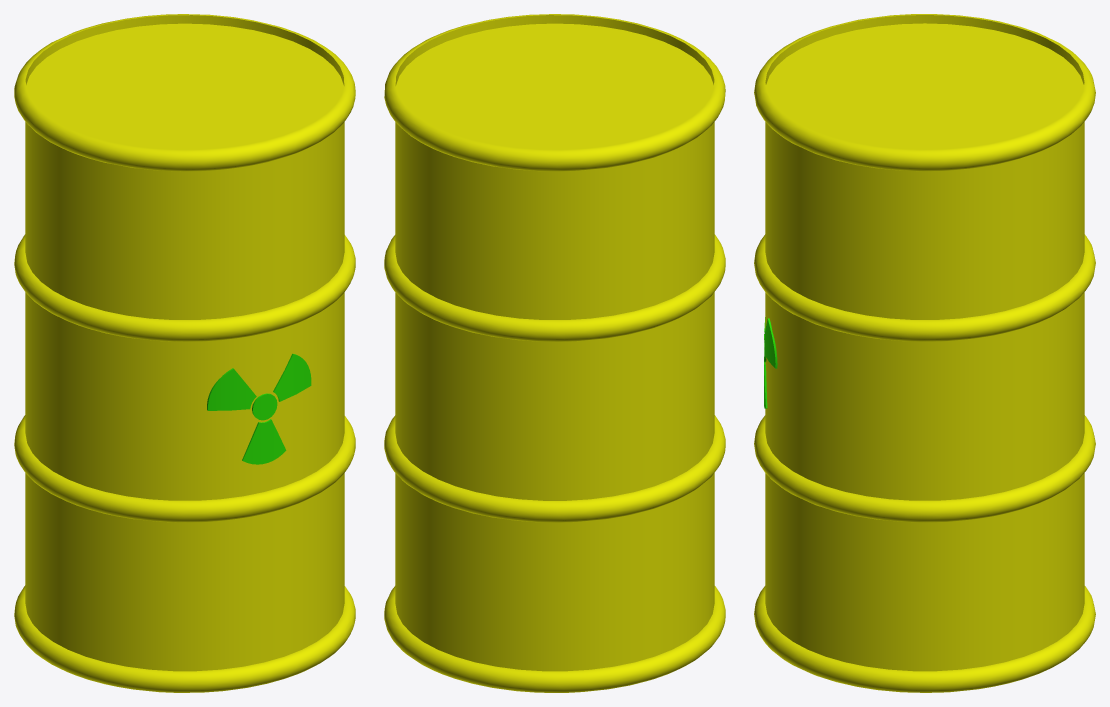
File: ToxicBarril.fbx
3 renders of one model, left to right at view 1: azimuth 30°, elevation 25°; view 2: azimuth 150°, elevation 25°; view 3: azimuth 270°, elevation 25°, orthographic.
Visible parts, largest first — view 1: Joined Solid Geometry [23962]; view 2: Joined Solid Geometry [23962]; view 3: Joined Solid Geometry [23962].
Part boxes in pixels (box(x1,y1,x2,y2)): Joined Solid Geometry [23962]: box(14, 14, 355, 692); Joined Solid Geometry [23962]: box(384, 14, 725, 692); Joined Solid Geometry [23962]: box(754, 14, 1095, 692).
Size of the model in its own units: 120 by 210 by 120.
